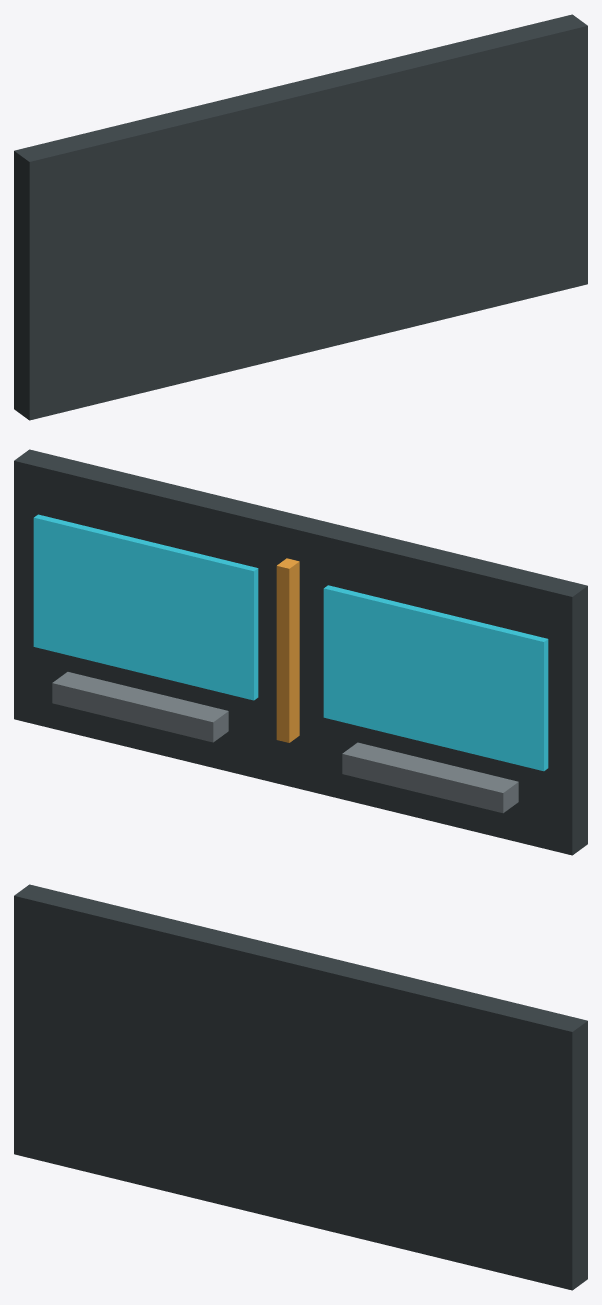
The model's file is gravifire_analysis_wall.glb.
3 renders of one model, top to bottom at view 1: azimuth 30°, elevation 25°; view 2: azimuth 150°, elevation 25°; view 3: azimuth 330°, elevation 25°, orthographic.
Visible parts, largest first — view 1: analysis_wall; view 2: analysis_wall, screen_S2, screen_S1, console_S1, console_S2, divider; view 3: analysis_wall.
Boxes of the visible parts, left/top/right/bottom form: analysis_wall: left=14, top=14, right=587, bottom=420; analysis_wall: left=14, top=449, right=587, bottom=855; screen_S2: left=33, top=514, right=258, bottom=700; screen_S1: left=323, top=585, right=548, bottom=771; console_S1: left=342, top=742, right=518, bottom=813; console_S2: left=52, top=672, right=228, bottom=742; divider: left=276, top=558, right=299, bottom=742; analysis_wall: left=14, top=884, right=587, bottom=1290.
Size of the model in its own units: 5.2 by 2.3 by 0.5.
